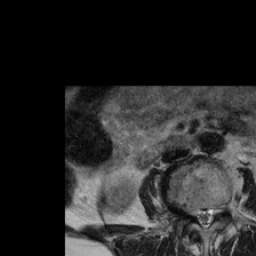CCS_normal: (201, 200, 207, 234)
LFS_normal: (214, 196, 222, 223)
LLS_normal: (207, 197, 214, 229)
RFS_severe_stenosis: (185, 196, 193, 221)
RLS_normal: (193, 199, 201, 227)
